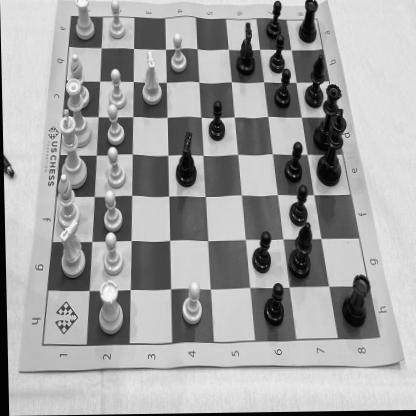black-bishop: (340, 275, 370, 328), (286, 224, 312, 279), (304, 55, 324, 110), (298, 0, 319, 43)
black-king: (315, 108, 346, 188)
black-knight: (174, 132, 198, 188), (235, 20, 256, 78)
black-pawn: (250, 230, 272, 275), (262, 283, 284, 328), (287, 186, 309, 228), (284, 140, 304, 185), (206, 99, 226, 141), (274, 68, 292, 110), (268, 36, 286, 75), (266, 1, 283, 40)
black-queen: (312, 84, 344, 153)
white-bishop: (55, 175, 80, 231), (68, 53, 90, 110)
white-king: (58, 108, 87, 190)
white-knight: (56, 220, 86, 278), (141, 50, 162, 106)
white-pawn: (98, 233, 124, 278), (98, 191, 123, 235), (102, 146, 127, 189), (180, 284, 202, 330), (106, 68, 127, 110), (104, 105, 125, 146), (169, 33, 187, 75), (108, 0, 126, 41)
white-queen: (64, 77, 92, 149)
white-rook: (96, 280, 122, 336), (74, 0, 95, 40)
